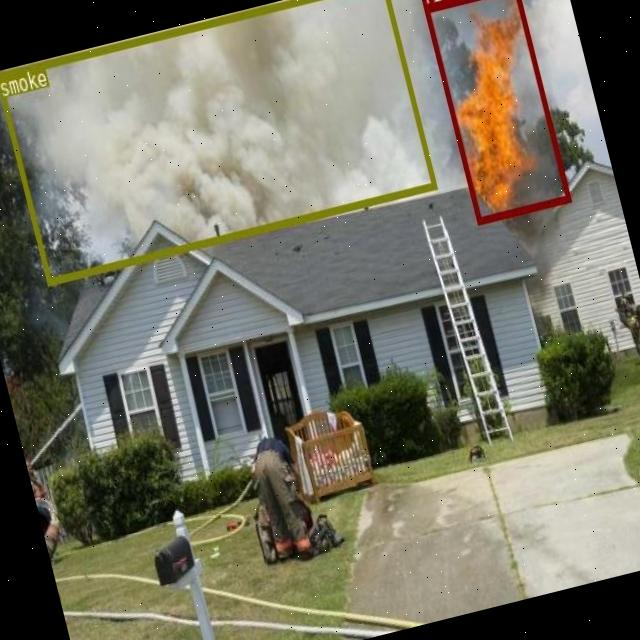fire: (423, 0, 569, 222)
smoke: (0, 0, 436, 285)
